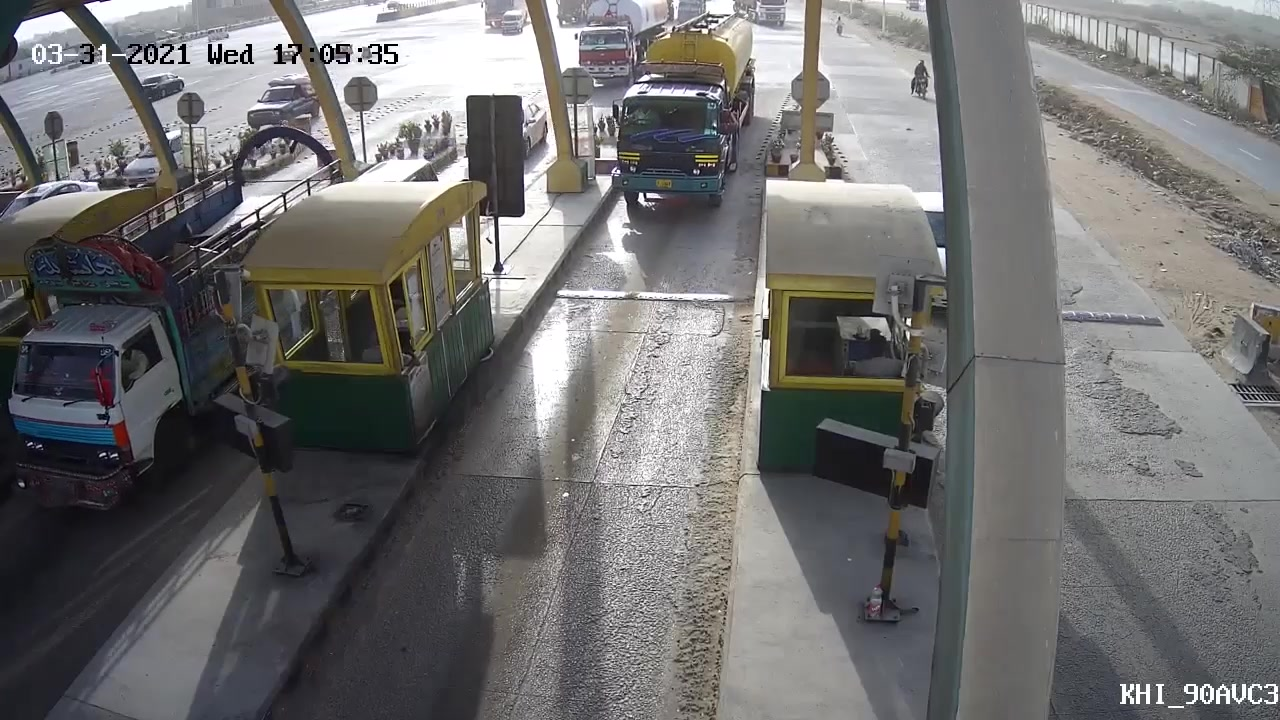F6: (599, 11, 767, 211)
